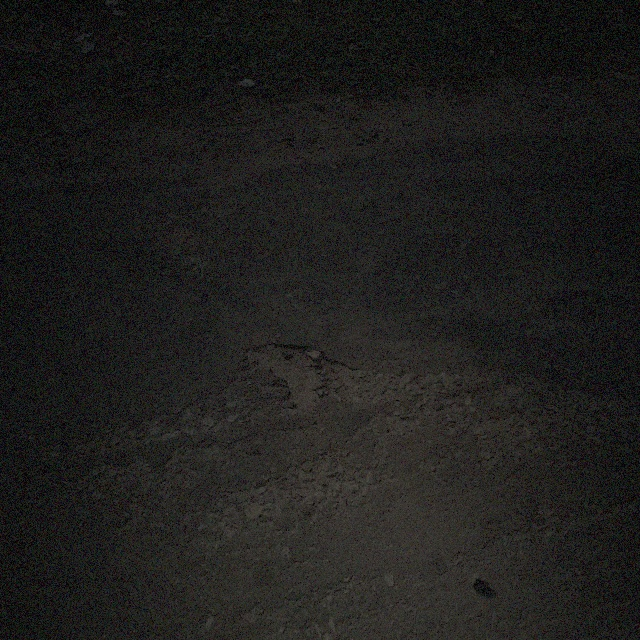pothole: (240, 340, 332, 418)
